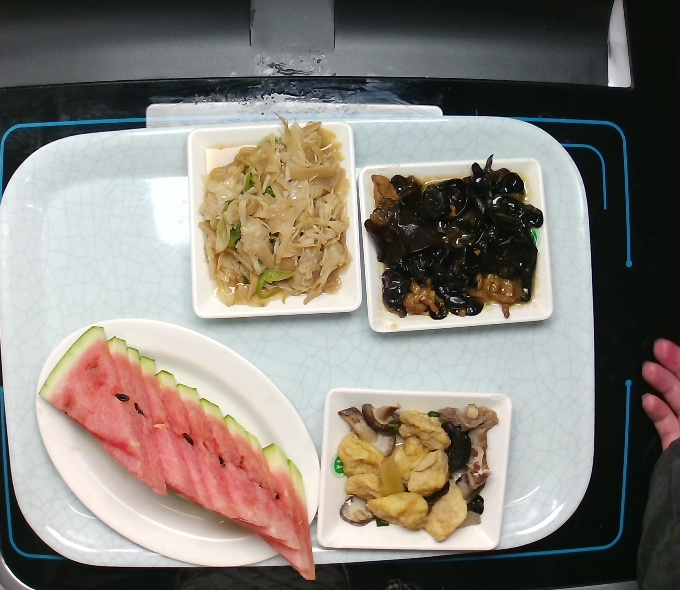wcq-LuSun: (194, 119, 352, 310)
wcq-MuErChaoRou: (378, 176, 542, 316)
wcq-XiGua: (40, 321, 327, 586)
wcq-YouPaoPaiGu: (330, 396, 499, 547)
